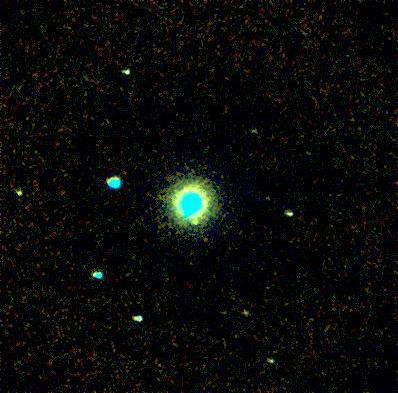star: (182, 207, 212, 237)
